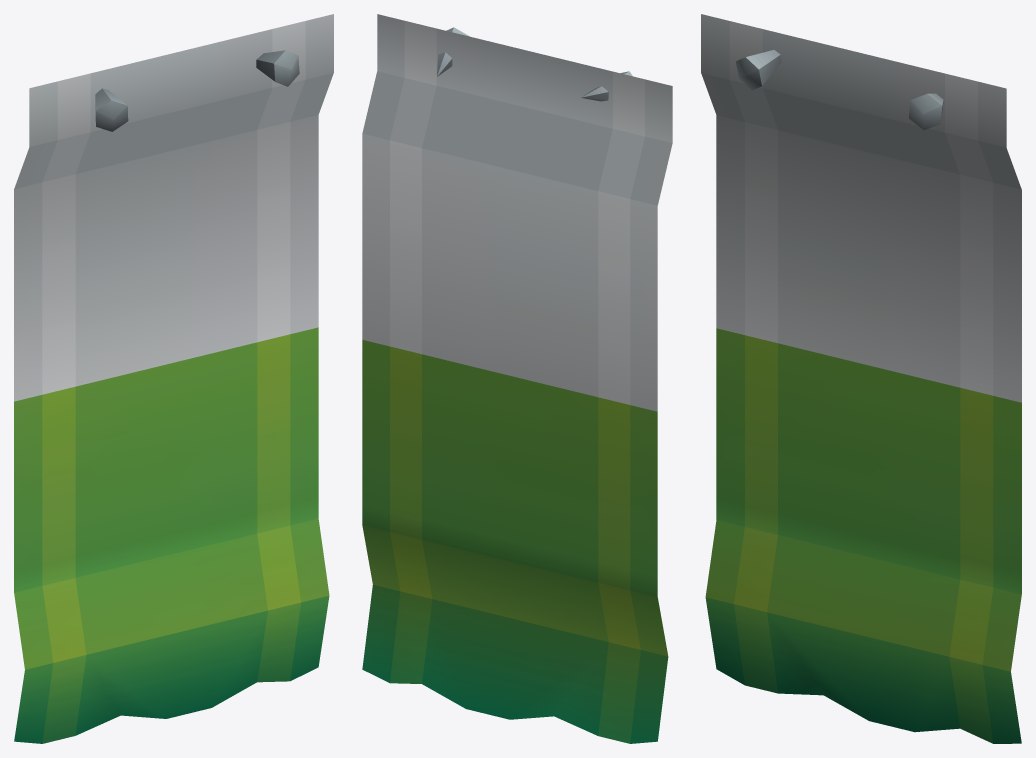
Rendered from kay-estandarte-verde.gltf.
The picture shows the model from 3 angles, left to right: view 1: azimuth 30°, elevation 25°; view 2: azimuth 150°, elevation 25°; view 3: azimuth 330°, elevation 25°; orthographic projection. The views are drawn at different scales.
Visible parts, largest first — view 1: banner_patternB_green; view 2: banner_patternB_green; view 3: banner_patternB_green.
Part boxes in pixels (left/top/right/bottom): banner_patternB_green: left=14, top=14, right=333, bottom=743; banner_patternB_green: left=362, top=14, right=672, bottom=743; banner_patternB_green: left=701, top=14, right=1021, bottom=743.
Size of the model in its own units: 0.9749 by 2.08 by 0.2026.
Materials: 1 (1 with a texture image).
